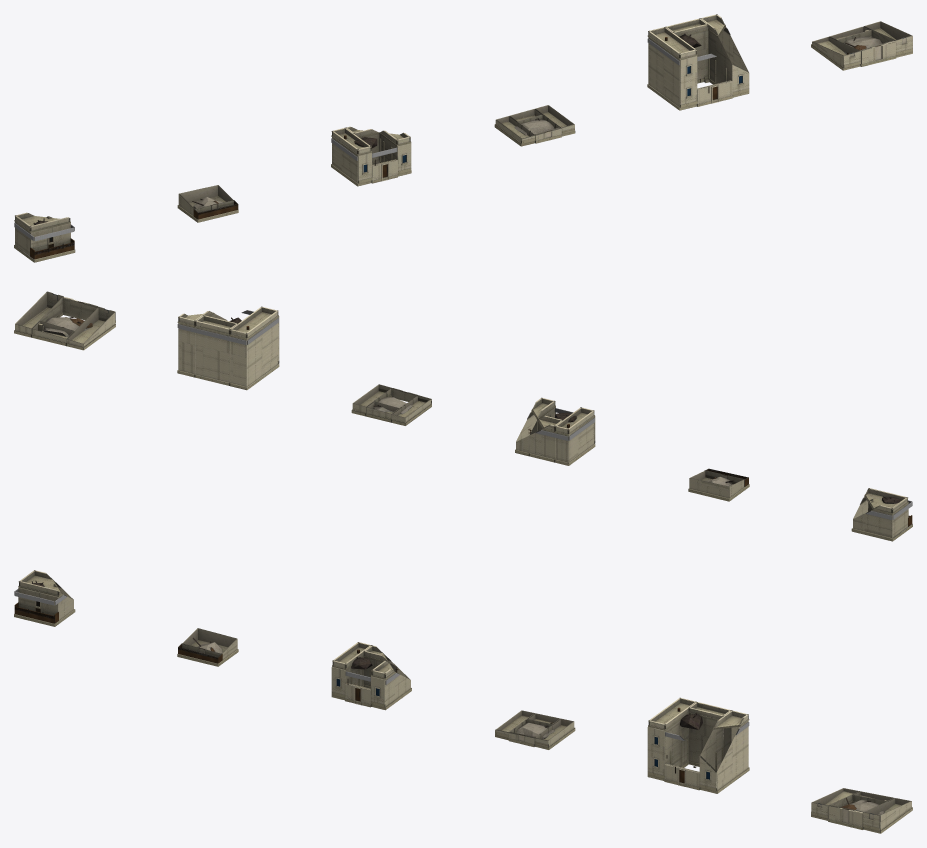
File: classical-israelite-houses-damage.glb
3 views of the same model, one above another, from view 1: azimuth 30°, elevation 25°; view 2: azimuth 150°, elevation 25°; view 3: azimuth 330°, elevation 25° (orthographic).
Parts seen in each view (by area): view 1: LOD0.004, LOD0.002, LOD0.005, LOD0, LOD0.003, LOD0.001; view 2: LOD0.004, LOD0.002, LOD0.005, LOD0, LOD0.003, LOD0.001; view 3: LOD0.004, LOD0.002, LOD0.005, LOD0, LOD0.003, LOD0.001.
Part boxes in pixels (x1,y1,x2,y2): LOD0.004: (647, 14, 749, 110); LOD0.002: (331, 126, 411, 186); LOD0.005: (811, 21, 912, 70); LOD0: (14, 212, 75, 262); LOD0.003: (494, 105, 575, 146); LOD0.001: (177, 185, 238, 222); LOD0.004: (177, 306, 279, 390); LOD0.002: (515, 397, 595, 465); LOD0.005: (14, 291, 115, 350); LOD0: (851, 488, 912, 541); LOD0.003: (351, 384, 431, 425); LOD0.001: (688, 468, 749, 501); LOD0.004: (647, 697, 749, 793); LOD0.002: (331, 642, 411, 710); LOD0.005: (811, 788, 912, 833); LOD0: (14, 570, 75, 626); LOD0.003: (495, 710, 575, 749); LOD0.001: (177, 628, 238, 666).
Size of what is drawn, in the model's own units: 16.02 by 0.9907 by 1.05.
2 materials, 2 textured.
